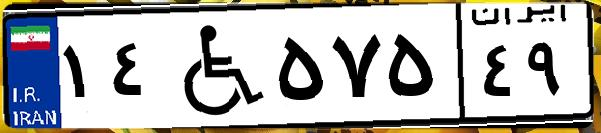1: (57, 26, 110, 100)
4: (475, 38, 525, 113), (110, 28, 158, 98)
5: (270, 28, 330, 110), (385, 28, 445, 110)
7: (330, 28, 385, 110)
9: (525, 38, 570, 115)
ژ (معلولین و جانبازان): (158, 12, 270, 120)
